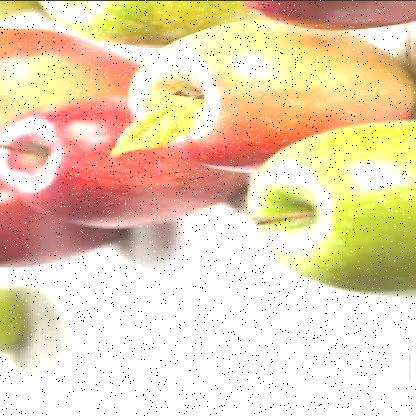apple: (125, 19, 401, 164), (0, 100, 230, 230), (256, 121, 414, 298)
